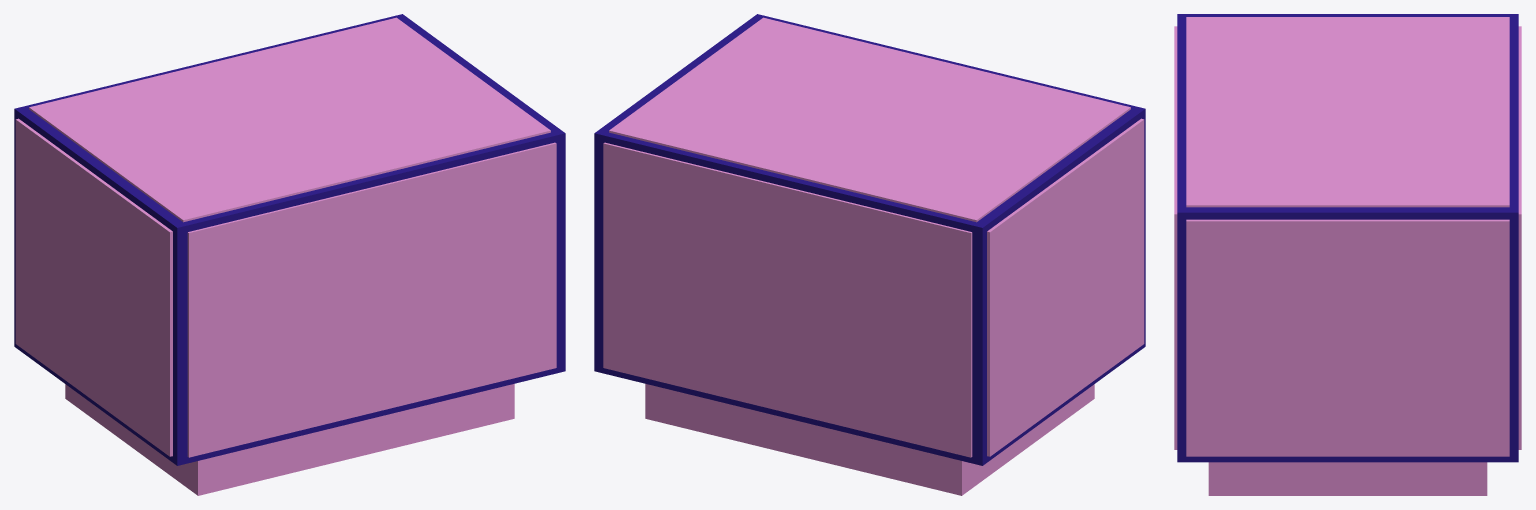
The model's file is Bedroom_Nightstand.fbx.
3 renders of one model, left to right at view 1: azimuth 30°, elevation 25°; view 2: azimuth 150°, elevation 25°; view 3: azimuth 270°, elevation 25°, orthographic. The views are drawn at different scales.
Parts seen in each view (by area): view 1: Stand, Light; view 2: Stand, Light; view 3: Stand, Light.
Part boxes in pixels (left/top/right/bottom): Stand: left=15, top=17, right=556, bottom=495; Light: left=14, top=14, right=565, bottom=465; Stand: left=603, top=17, right=1144, bottom=495; Light: left=594, top=14, right=1145, bottom=465; Stand: left=1174, top=17, right=1521, bottom=495; Light: left=1177, top=14, right=1518, bottom=462.
Size of the model in its own units: 67.09 by 48.77 by 47.11.
